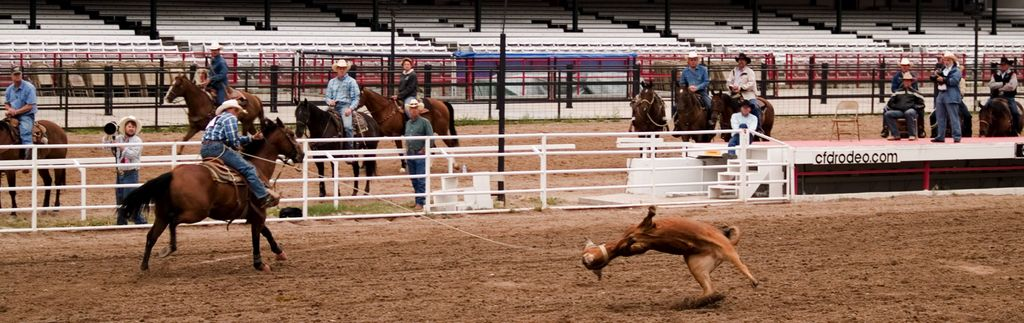horse: (584, 203, 759, 301)
